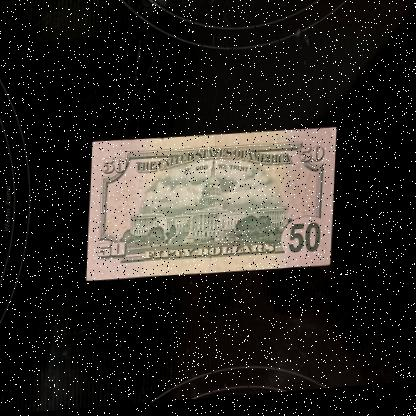fifty-back: (87, 126, 337, 286)
